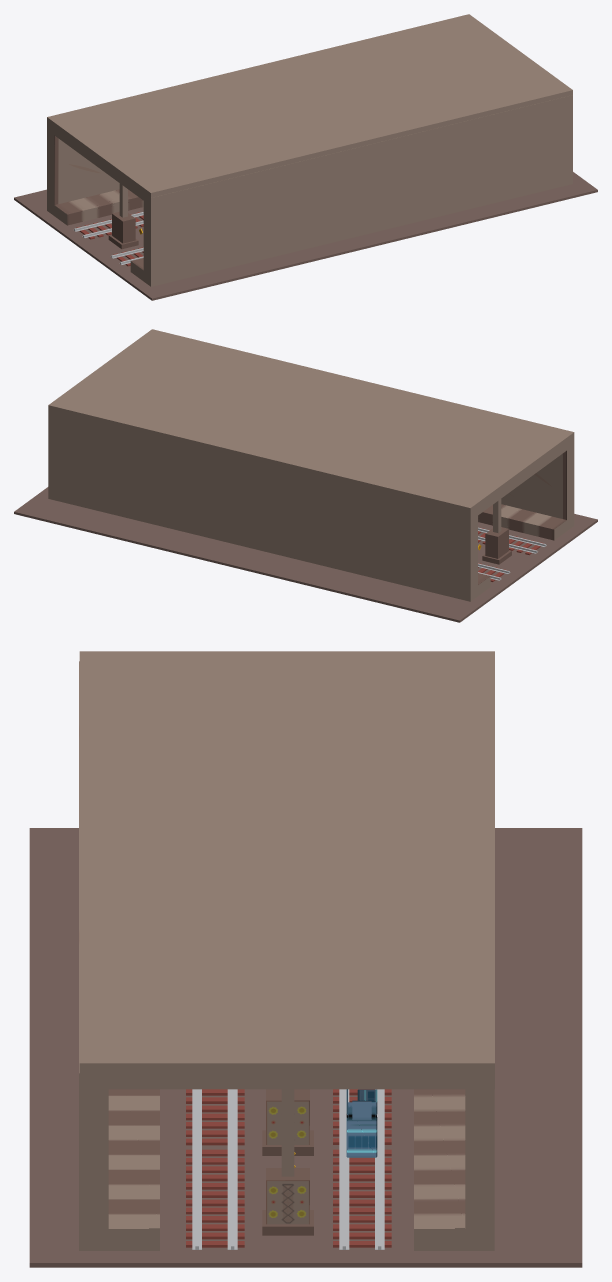
Rendered from tunnel.fbx.
The picture shows the model from 3 angles, top to bottom: view 1: azimuth 30°, elevation 25°; view 2: azimuth 150°, elevation 25°; view 3: azimuth 270°, elevation 25°; orthographic projection. The views are drawn at different scales.
Parts seen in each view (by area): view 1: Cube.086, Cube.077, ground.002, Cube.085; view 2: Cube.086, Cube.077, ground.002, Cube.084; view 3: Cube.077, ground.002, Cube.086, Cube.080, Cube.081, Cube.082, Cube.087, Cube.083.
Part boxes in pixels (x1,y1,x2,y2): Cube.086: [47, 66, 363, 286]; Cube.077: [257, 14, 572, 235]; ground.002: [14, 172, 597, 300]; Cube.085: [73, 212, 143, 239]; Cube.086: [258, 381, 574, 601]; Cube.077: [48, 329, 363, 549]; ground.002: [14, 487, 597, 622]; Cube.084: [478, 527, 546, 555]; Cube.077: [79, 856, 494, 1250]; ground.002: [29, 828, 582, 1267]; Cube.086: [79, 651, 494, 865]; Cube.080: [186, 1141, 244, 1249]; Cube.081: [333, 1142, 391, 1249]; Cube.082: [186, 1089, 244, 1145]; Cube.087: [346, 1089, 377, 1157]; Cube.083: [333, 1089, 391, 1146].
Size of the model in its own units: 4200 by 864 by 2253.
